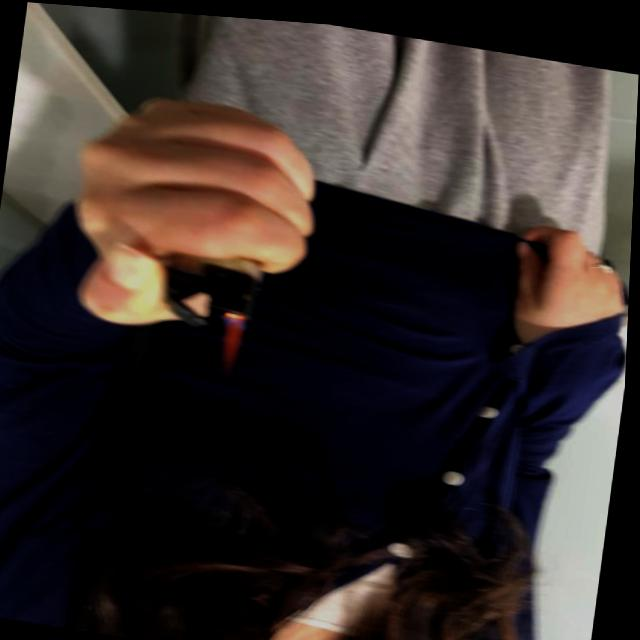Fire: (221, 315, 251, 372)
